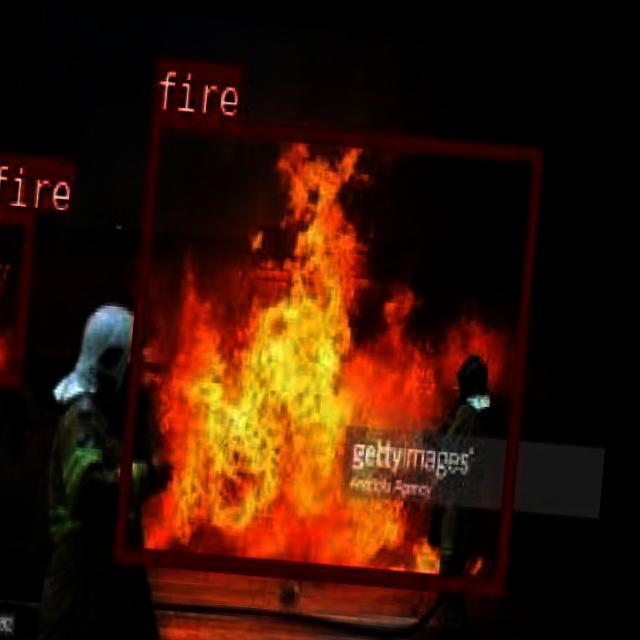Fire: (138, 132, 524, 608), (0, 237, 42, 384)
Smoke: (371, 28, 622, 386)
